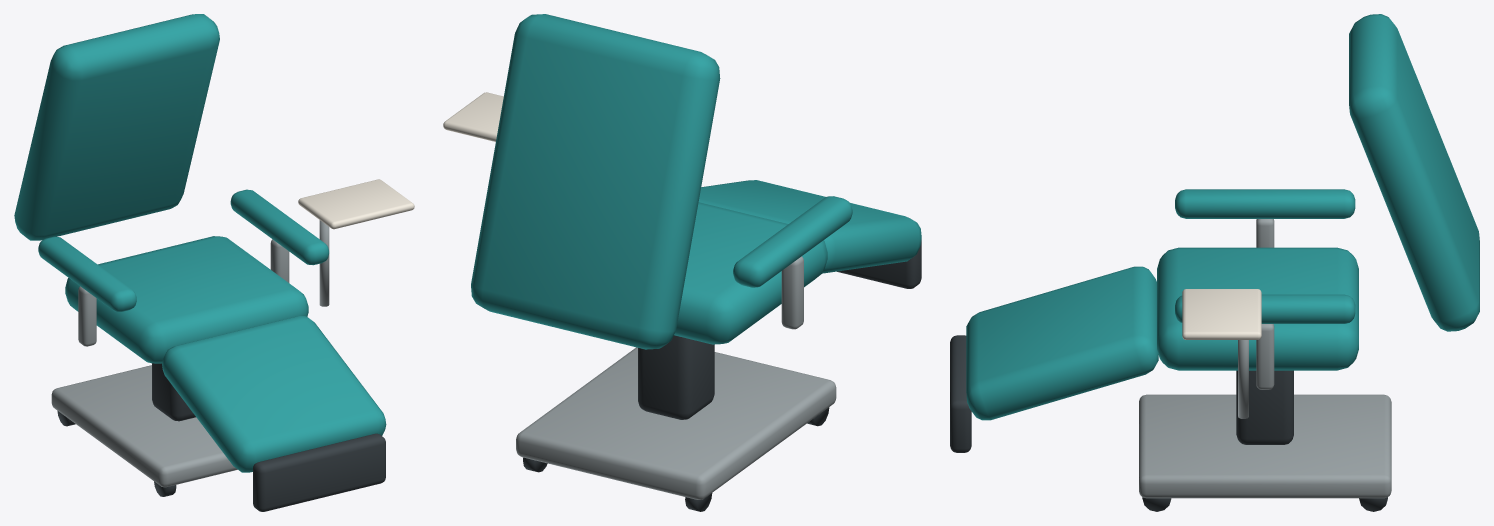
File: TreatmentRecliner_standard.glb
3 renders of one model, left to right at view 1: azimuth 30°, elevation 25°; view 2: azimuth 150°, elevation 25°; view 3: azimuth 270°, elevation 25°, orthographic. The views are drawn at different scales.
Parts seen in each view (by area): view 1: TreatmentRecliner_standard; view 2: TreatmentRecliner_standard; view 3: TreatmentRecliner_standard.
Boxes of the visible parts, left/top/right/bottom form: TreatmentRecliner_standard: left=14, top=14, right=414, bottom=511; TreatmentRecliner_standard: left=443, top=14, right=921, bottom=511; TreatmentRecliner_standard: left=950, top=14, right=1479, bottom=511.
Bounding box in the file's own units: 1.09 × 1.29 × 1.47.
